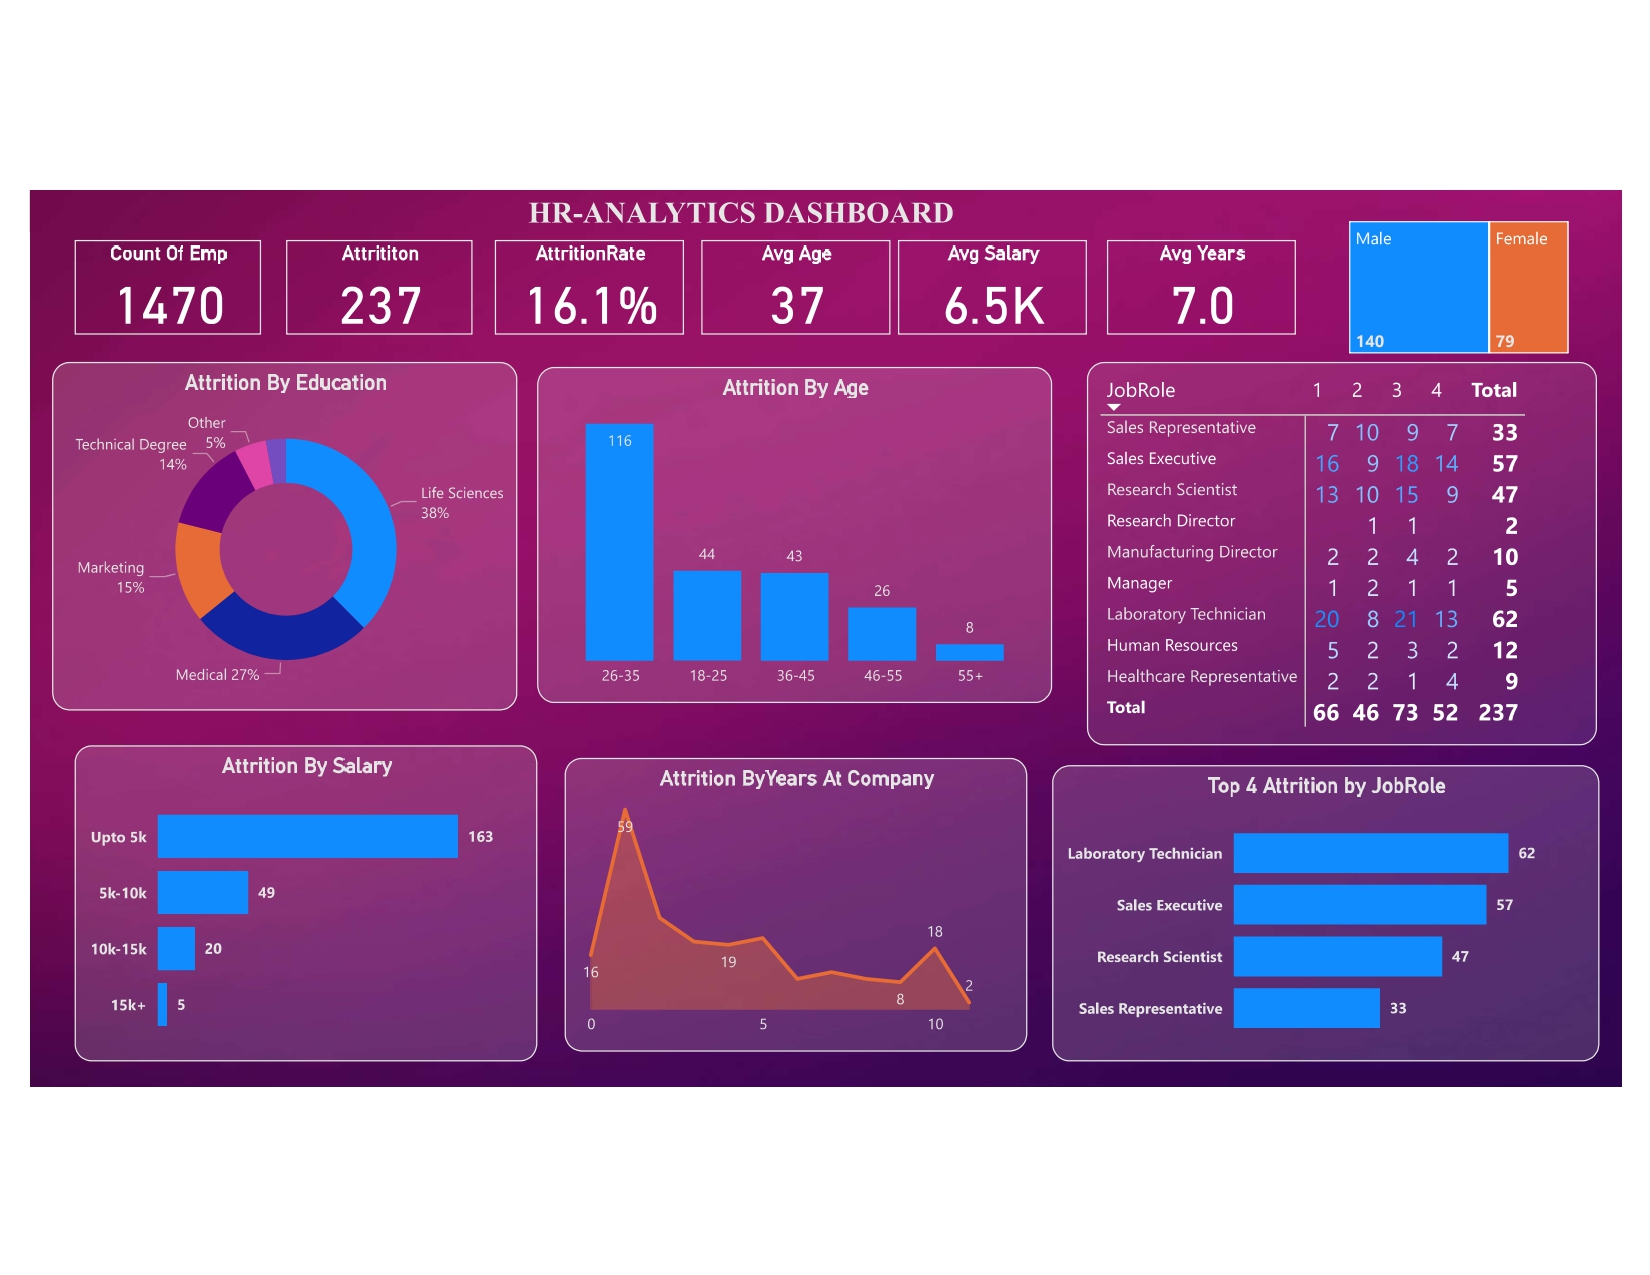

The dashboard page shown, as its layout file describes it:
{"tool":"powerbi","page":{"name":"Page 1","canvas":[1280,720],"ordinal":0},"visuals":[{"type":"card","title":"Count Of Emp","fields":{"Values":["CountNonNull(HR_Analytics.EmpID)"]},"box":[36,40,150,76],"z":0},{"type":"card","title":"Attrititon","fields":{"Values":["Sum(HR_Analytics.AttritionCount)"]},"box":[206,40,150,76],"z":1000},{"type":"card","title":"AttritionRate","fields":{"Values":["HR_Analytics.AttritionRate"]},"box":[374,40,152,76],"z":2000},{"type":"card","title":"Avg Age","fields":{"Values":["Avg(HR_Analytics.Age)"]},"box":[540,40,152,76],"z":3000},{"type":"card","title":"Avg Salary","fields":{"Values":["Avg(HR_Analytics.MonthlyIncome)"]},"box":[698,40,152,76],"z":4000},{"type":"card","title":"Avg Years","fields":{"Values":["Avg(HR_Analytics.YearsAtCompany)"]},"box":[866,40,152,76],"z":5000},{"type":"donutChart","title":"Attrition By Education","fields":{"Category":["HR_Analytics.EducationField"],"Y":["Sum(HR_Analytics.AttritionCount)"]},"box":[18,138,374,280],"z":6000},{"type":"columnChart","title":"Attrition By Age","fields":{"Category":["HR_Analytics.AgeGroup"],"Y":["Sum(HR_Analytics.AttritionCount)"]},"box":[408,142,414,270],"z":7000},{"type":"pivotTable","fields":{"Rows":["HR_Analytics.JobRole"],"Columns":["HR_Analytics.JobSatisfaction"],"Values":["Sum(HR_Analytics.AttritionCount)"]},"box":[850,138,410,308],"z":8000},{"type":"barChart","title":"Attrition By Salary","fields":{"Category":["HR_Analytics.SalarySlab"],"Y":["Sum(HR_Analytics.AttritionCount)"]},"box":[36,446,372,254],"z":9000},{"type":"barChart","title":"Top 4 Attrition by JobRole","fields":{"Y":["Sum(HR_Analytics.AttritionCount)"],"Category":["HR_Analytics.JobRole"]},"box":[822,462,440,238],"z":10000},{"type":"areaChart","title":"Attrition ByYears At Company","fields":{"Category":["HR_Analytics.YearsAtCompany"],"Y":["Sum(HR_Analytics.AttritionCount)"]},"box":[430,456,372,236],"z":11000},{"type":"treemap","title":"Attrition By Age","fields":{"Group":["HR_Analytics.Gender"],"Values":["Sum(HR_Analytics.AttritionCount)"]},"box":[1056,20,186,116],"z":12000},{"type":"textbox","box":[86.7,0,970,40],"z":13000}]}

Visuals, with their boxes in screenshot pixels (x1, y1, x2, y2):
"Count Of Emp" card: [x1=59, y1=236, x2=249, y2=332]
"Attrititon" card: [x1=275, y1=236, x2=465, y2=332]
"AttritionRate" card: [x1=488, y1=236, x2=682, y2=332]
"Avg Age" card: [x1=699, y1=236, x2=893, y2=332]
"Avg Salary" card: [x1=900, y1=236, x2=1093, y2=332]
"Avg Years" card: [x1=1114, y1=236, x2=1307, y2=332]
"Attrition By Education" donutChart: [x1=36, y1=360, x2=511, y2=716]
"Attrition By Age" columnChart: [x1=532, y1=365, x2=1058, y2=709]
pivotTable - HR_Analytics.JobRole x HR_Analytics.JobSatisfaction: [x1=1093, y1=360, x2=1615, y2=752]
"Attrition By Salary" barChart: [x1=59, y1=752, x2=532, y2=1075]
"Top 4 Attrition by JobRole" barChart: [x1=1058, y1=772, x2=1617, y2=1075]
"Attrition ByYears At Company" areaChart: [x1=560, y1=764, x2=1032, y2=1064]
"Attrition By Age" treemap: [x1=1355, y1=210, x2=1592, y2=358]
textbox: [x1=123, y1=185, x2=1356, y2=236]
